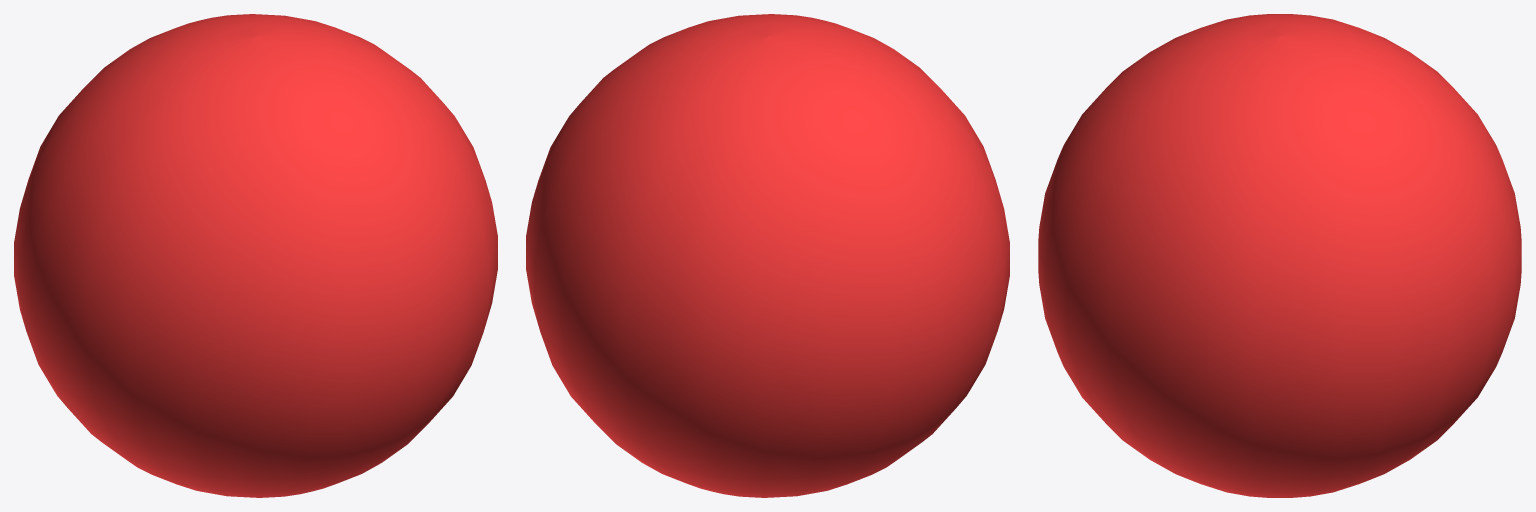
The model's file is molecule.fbx.
3 renders of one model, left to right at view 1: azimuth 30°, elevation 25°; view 2: azimuth 150°, elevation 25°; view 3: azimuth 270°, elevation 25°, orthographic.
Visible parts, largest first — view 1: Oxygen_ball; view 2: Oxygen_ball; view 3: Oxygen_ball.
Boxes of the visible parts, bbox=[...] form: Oxygen_ball: bbox=[14, 14, 497, 497]; Oxygen_ball: bbox=[526, 14, 1009, 497]; Oxygen_ball: bbox=[1038, 14, 1521, 497].
Size of the model in its own units: 146 by 146 by 146.
